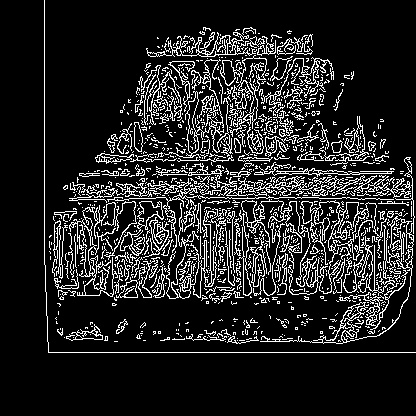buddha-sitting: (116, 199, 156, 298), (145, 69, 186, 157)
